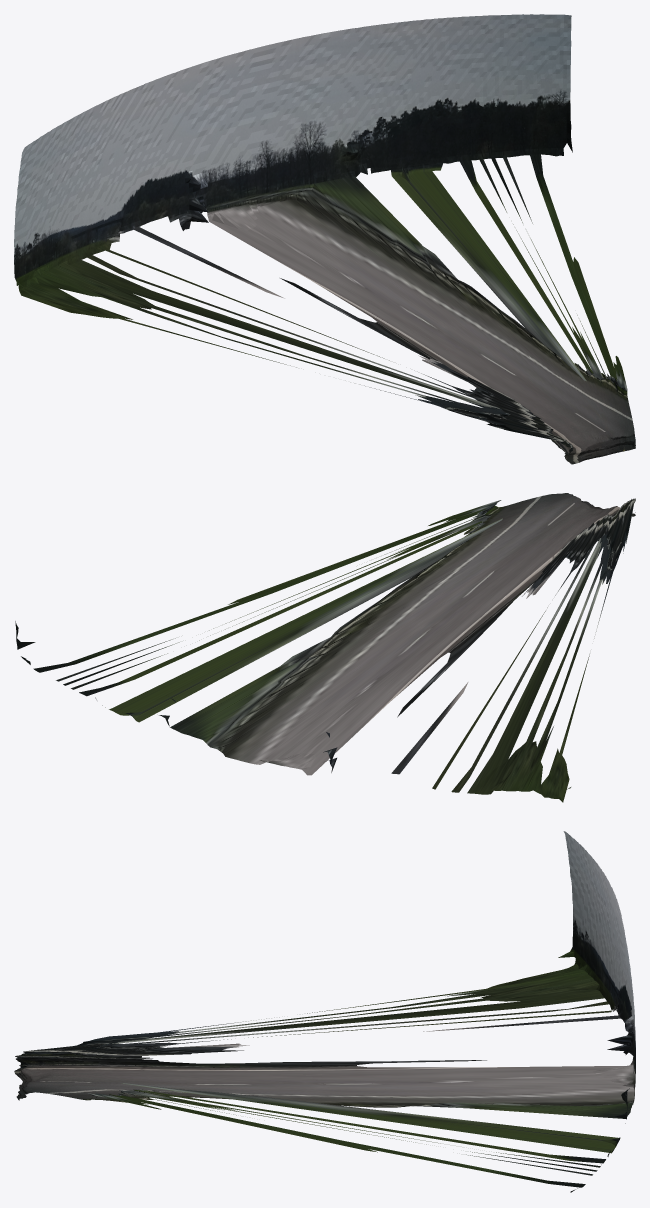
3 renders of one model, top to bottom at view 1: azimuth 30°, elevation 25°; view 2: azimuth 150°, elevation 25°; view 3: azimuth 270°, elevation 25°, orthographic. The views are drawn at different scales.
Visible parts, largest first — view 1: defaultobject; view 2: defaultobject; view 3: defaultobject.
Part boxes in pixels (left/top/right/bottom): defaultobject: left=14, top=14, right=635, bottom=464; defaultobject: left=15, top=493, right=635, bottom=802; defaultobject: left=14, top=831, right=635, bottom=1192.
Size of the model in its own units: 41.12 by 11.71 by 44.53.
1 material, 1 textured.
